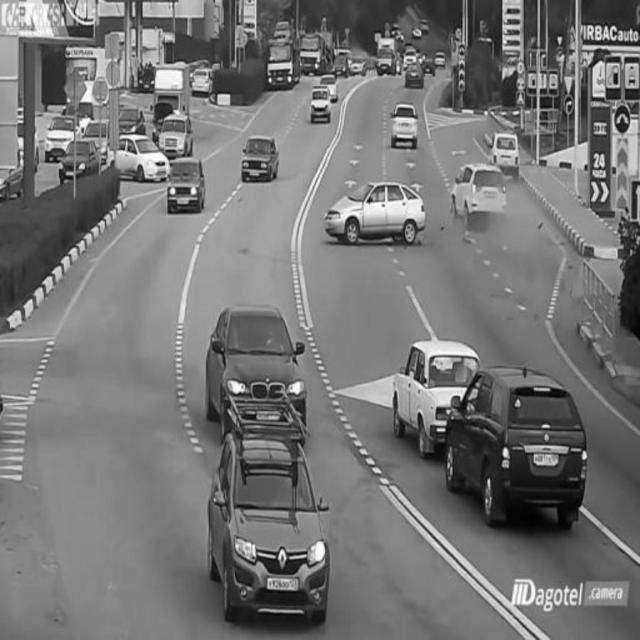vehicle: (208, 420, 332, 626), (447, 365, 585, 533), (204, 296, 312, 412), (385, 335, 468, 448), (328, 174, 430, 244), (452, 162, 510, 226), (109, 130, 169, 184), (162, 155, 206, 211), (53, 140, 104, 187), (238, 130, 284, 180), (265, 34, 301, 91), (386, 98, 424, 152), (42, 109, 78, 157), (489, 133, 523, 179), (160, 115, 197, 155), (309, 84, 336, 124), (189, 61, 215, 97), (375, 41, 395, 78), (404, 58, 428, 86)
